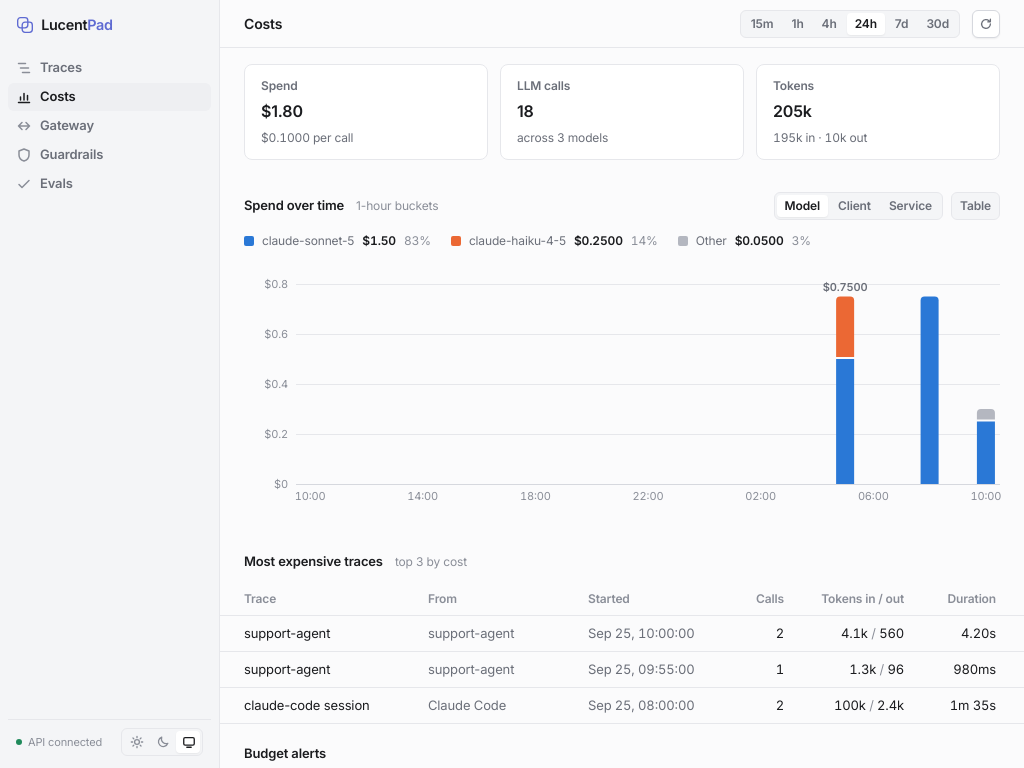
it: Costs page › switches the grouping in the URL and refetches
Expected: the element named "Totals for the range" is shown, [220,48,1023,176]
Step 1. Click the button "Client" → (854, 206), box [830,195,879,217]
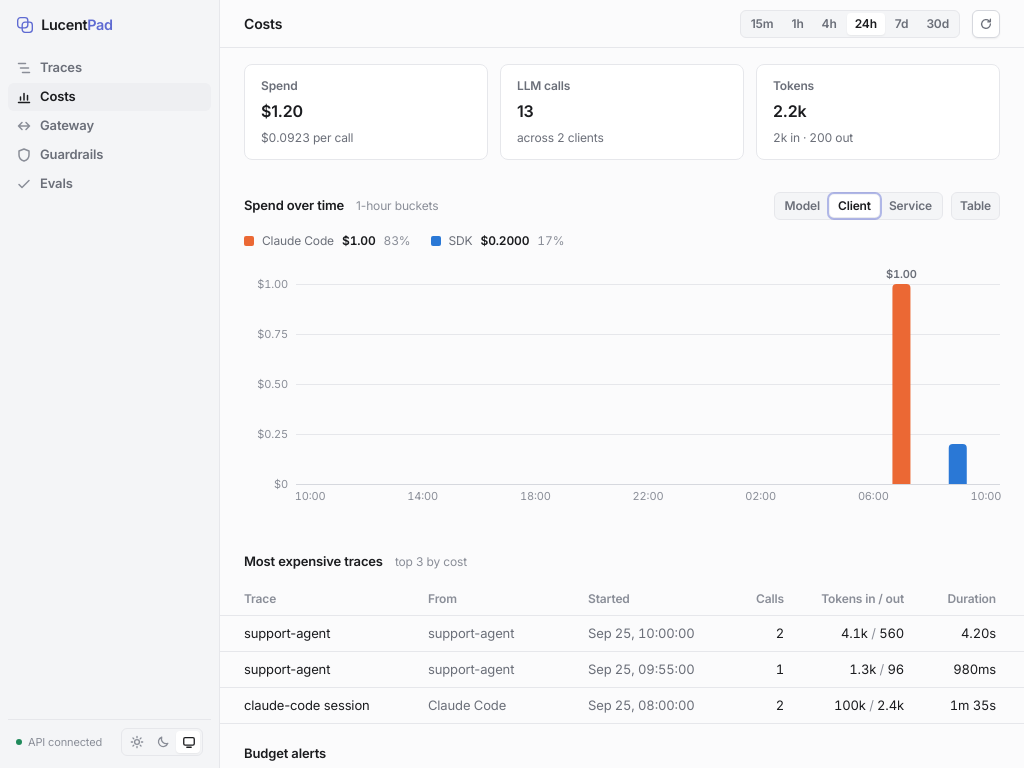
Expected: the list items read "Claude Code$1.0083%", "SDK$0.200017%", in this order, [244,232,410,250]; [430,232,564,250]
Expected: the element "LLM calls" shows "across 2 clients", [517,130,604,145]
